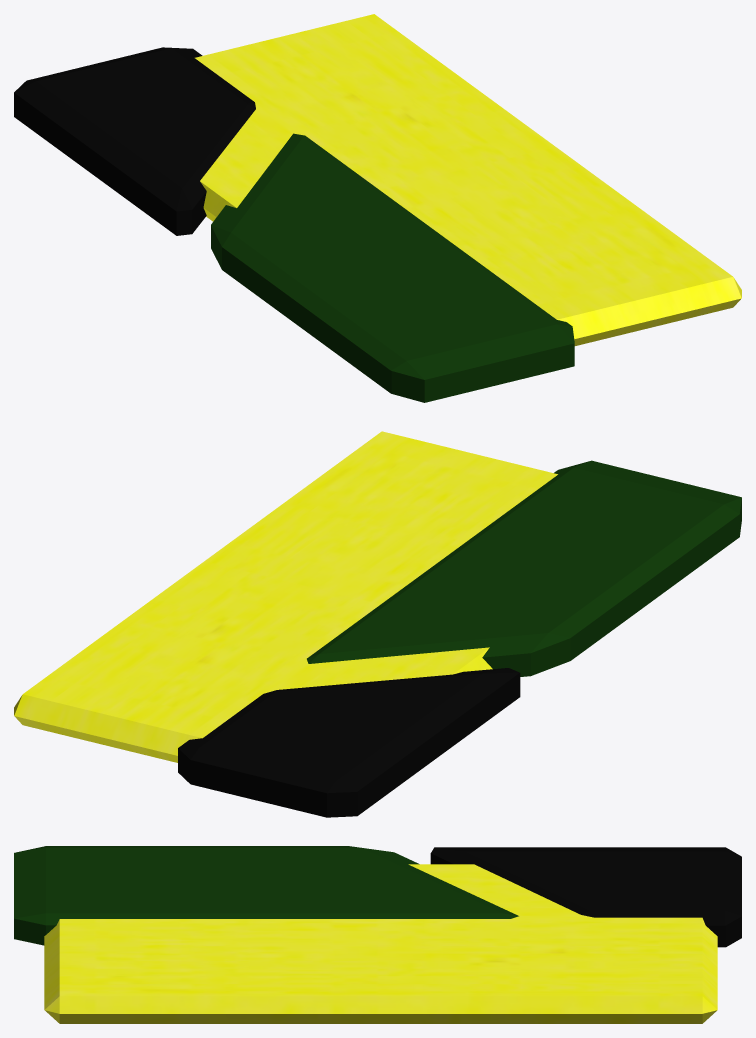
The model's file is keycard 2.fbx.
The picture shows the model from 3 angles, top to bottom: view 1: azimuth 30°, elevation 25°; view 2: azimuth 150°, elevation 25°; view 3: azimuth 270°, elevation 25°; orthographic projection. The views are drawn at different scales.
Parts seen in each view (by area): view 1: Cube, Cube.001, Cube.002; view 2: Cube, Cube.001, Cube.002; view 3: Cube, Cube.001, Cube.002.
Part boxes in pixels (x1,y1,x2,y2): Cube: (195,14,741,345); Cube.001: (211,133,574,402); Cube.002: (14,47,255,235); Cube: (14,431,557,762); Cube.001: (307,460,741,676); Cube.002: (178,668,520,817); Cube: (44,864,717,1023); Cube.001: (14,846,518,945); Cube.002: (430,847,741,947).
Bounding box in the file's own units: 229 × 22.18 × 449.
